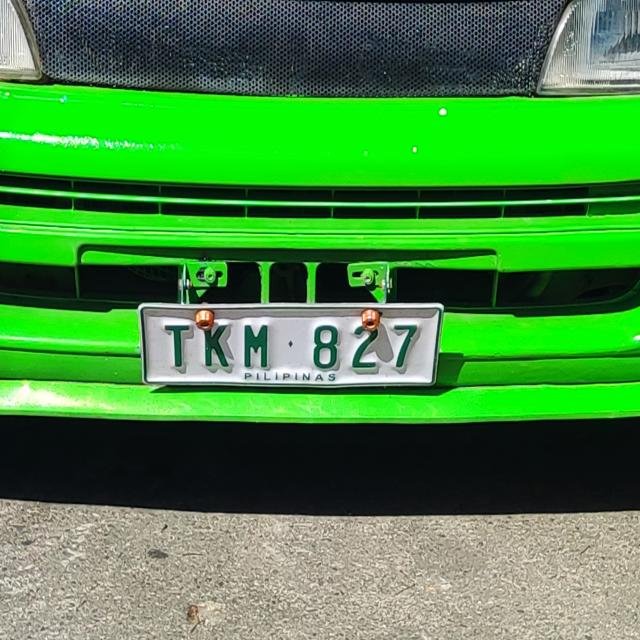plate: (134, 297, 447, 395)
